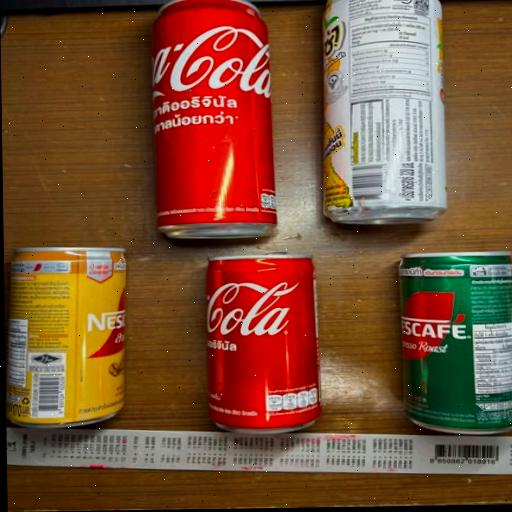bottle: (127, 0, 299, 249), (308, 0, 475, 246), (176, 249, 356, 448), (3, 229, 162, 452), (362, 223, 512, 454)
